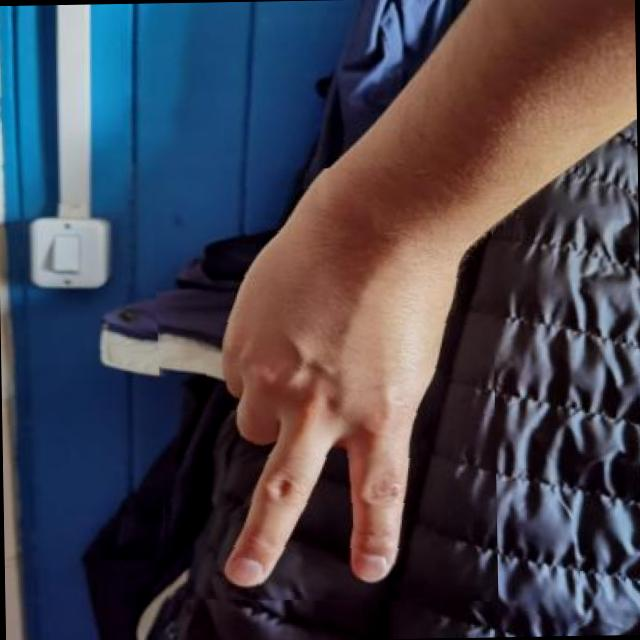N: (150, 165, 498, 607)
